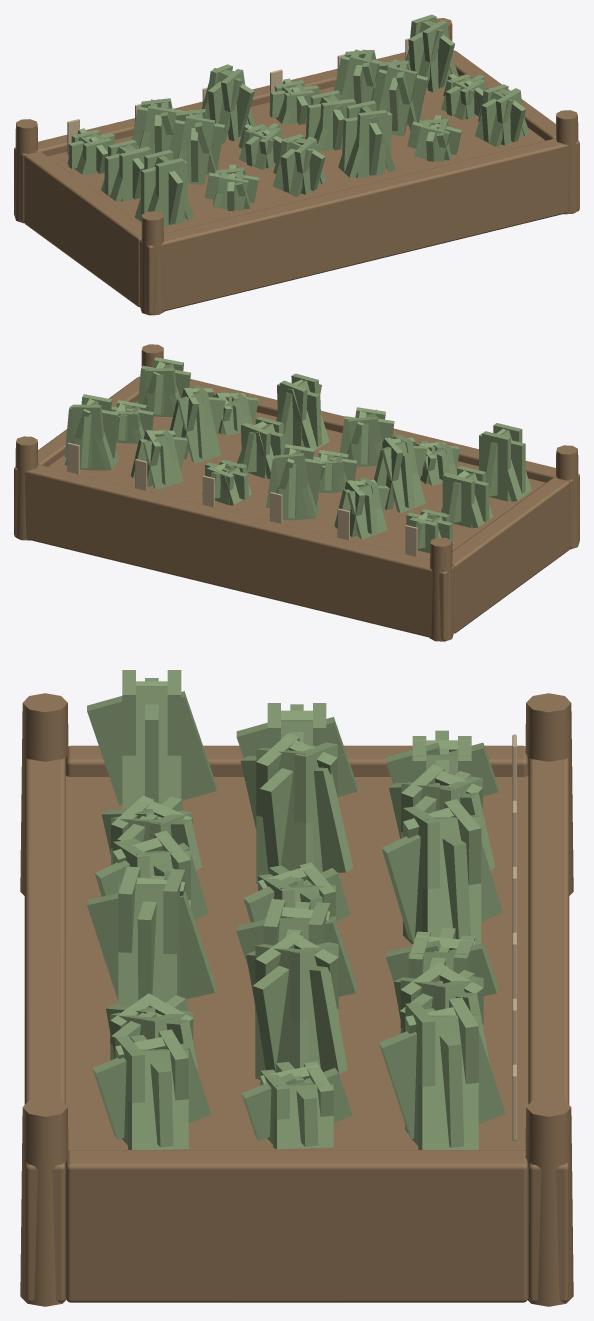
The model's file is herb-garden-bed.glb.
3 renders of one model, top to bottom at view 1: azimuth 30°, elevation 25°; view 2: azimuth 150°, elevation 25°; view 3: azimuth 270°, elevation 25°, orthographic. The views are drawn at different scales.
Visible parts, largest first — view 1: herb-garden-bed; view 2: herb-garden-bed; view 3: herb-garden-bed.
Boxes of the visible parts, <box> form: herb-garden-bed: <box>14,14,579,315</box>; herb-garden-bed: <box>14,344,579,641</box>; herb-garden-bed: <box>20,670,573,1306</box>.
Size of the model in its own units: 2.22 by 0.6092 by 1.22.
